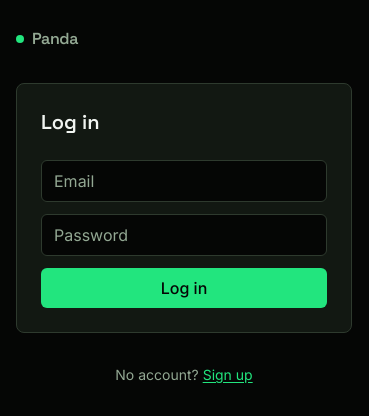
Test: shows the server error message and does not redirect on failure
Step 1. Type "alex@example.com" into the field with placeholder "Email" → (184, 181), box [41,160,327,202]
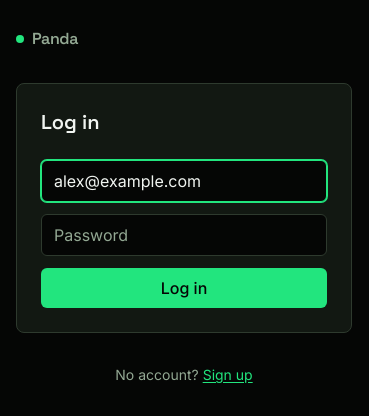
Step 2. Type "wrong-password" into the password field with placeholder "Password" → (184, 235), box [41,214,327,256]
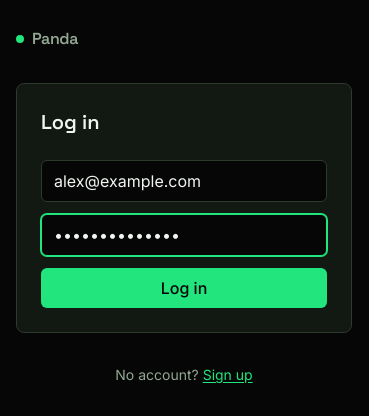
Step 3. Click the button "Log in" → (184, 288), box [41,268,327,308]
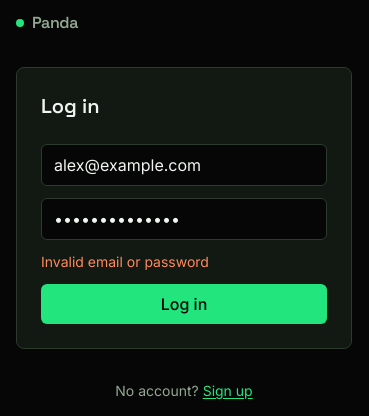
Now the text "Invalid email or password" is shown, box [41,253,209,270]
